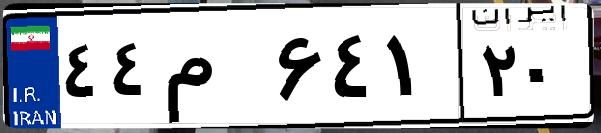0: (525, 38, 570, 115)
1: (385, 28, 445, 110)
2: (475, 38, 525, 113)
4: (330, 28, 385, 110), (57, 26, 110, 100), (110, 28, 158, 98)
6: (270, 28, 330, 110)
م: (158, 20, 270, 120)
